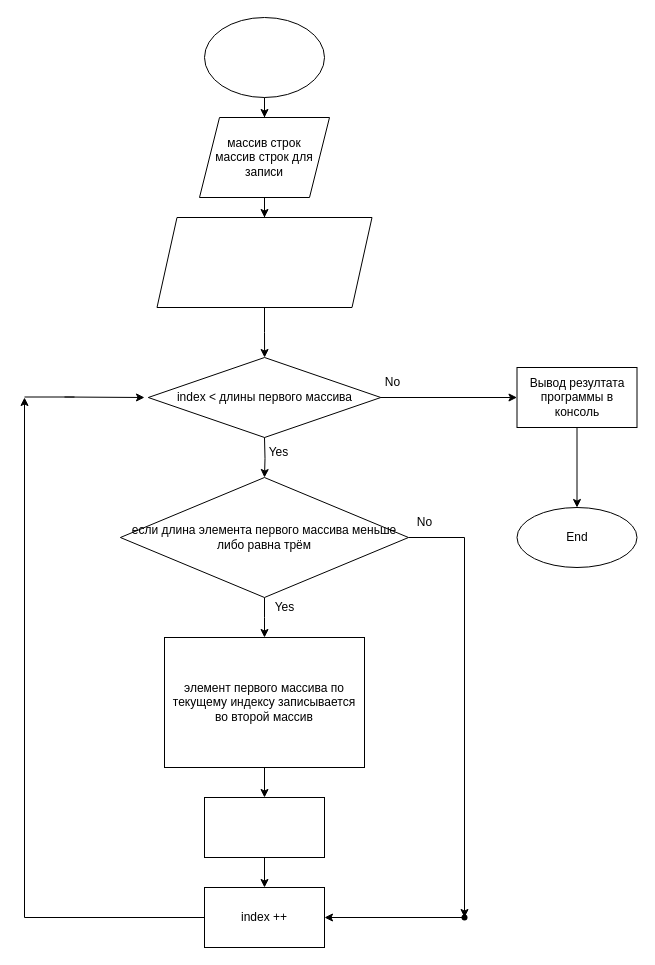
This 655x965 diagram has some shape labels left out. Here are the shapes that lost their labels. From the top down, the box of each, then its label:
(204, 16, 324, 98): Start
(156, 216, 372, 308): index = 0 count = индекс для записи во второй массив
(204, 796, 324, 858): count ++
